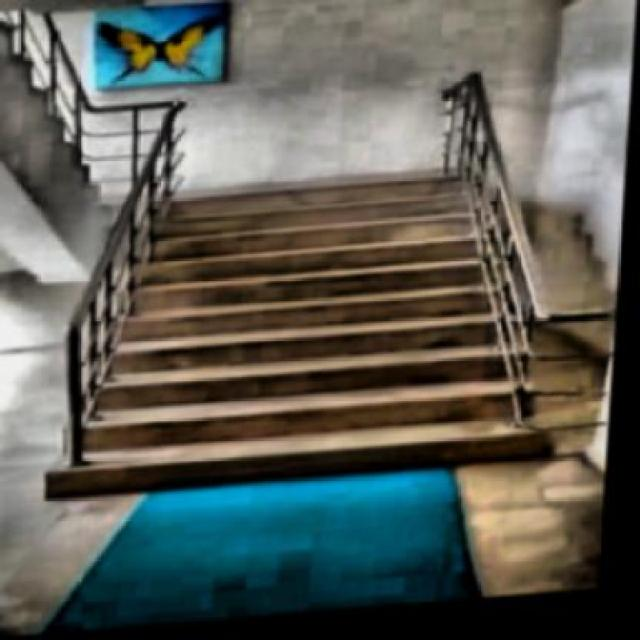stair: (66, 169, 582, 503)
